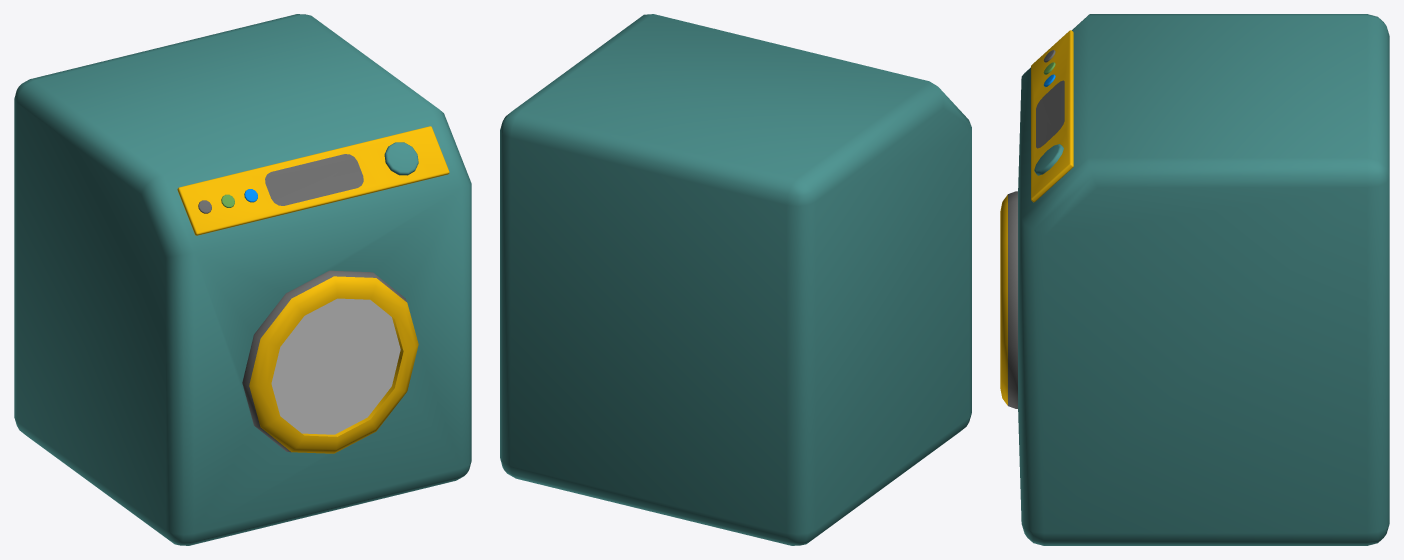
Rendered from Washing Machine_2V.fbx.
3 renders of one model, left to right at view 1: azimuth 30°, elevation 25°; view 2: azimuth 150°, elevation 25°; view 3: azimuth 270°, elevation 25°, orthographic. The views are drawn at different scales.
Visible parts, largest first — view 1: Washing Machine_2V, Washing Machine_2V Door_1; view 2: Washing Machine_2V; view 3: Washing Machine_2V, Washing Machine_2V Door_1.
Boxes of the visible parts, bbox=[...] form: Washing Machine_2V: bbox=[14, 14, 471, 545]; Washing Machine_2V Door_1: bbox=[242, 270, 418, 453]; Washing Machine_2V: bbox=[500, 14, 971, 545]; Washing Machine_2V: bbox=[1018, 14, 1389, 545]; Washing Machine_2V Door_1: bbox=[1000, 191, 1017, 408].
Bounding box in the file's own units: 0.7624 × 0.8537 × 0.7804.
